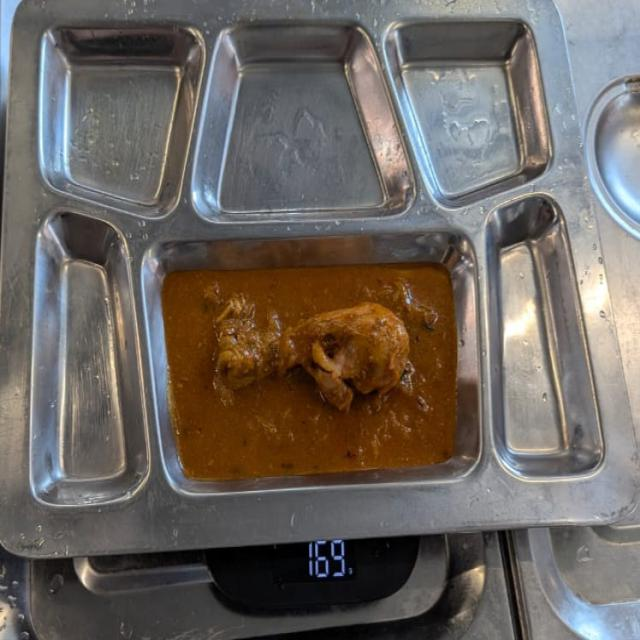Chicken Curry: (159, 253, 464, 493)
